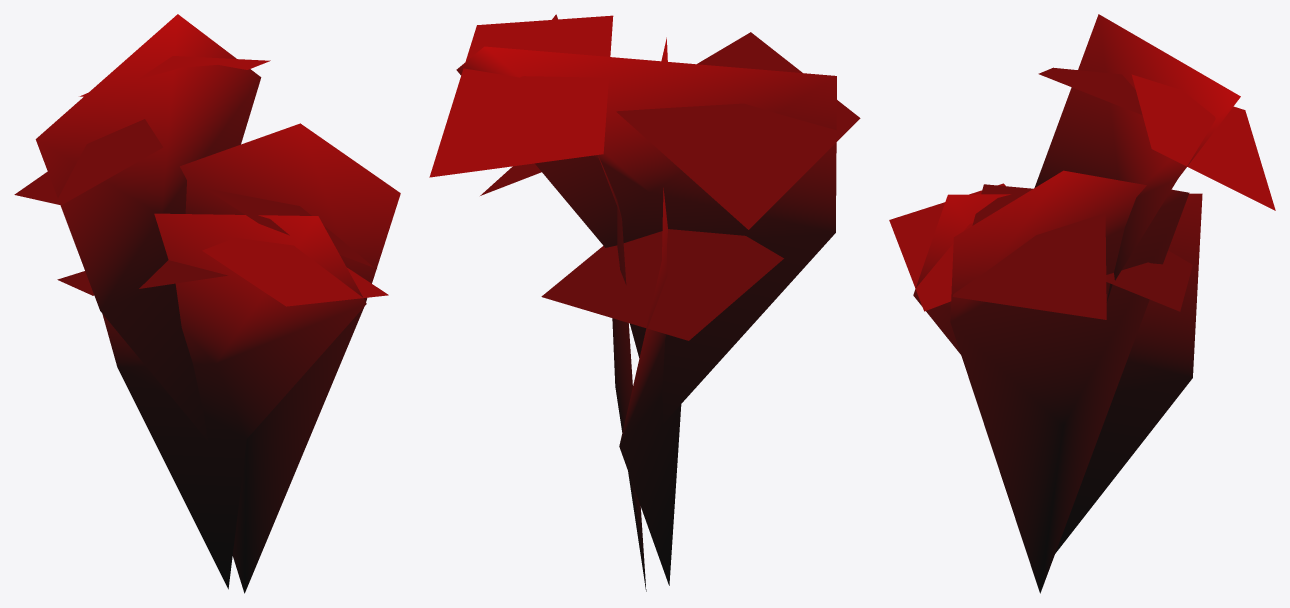
The model's file is Carot1.fbx.
3 renders of one model, left to right at view 1: azimuth 30°, elevation 25°; view 2: azimuth 150°, elevation 25°; view 3: azimuth 270°, elevation 25°, orthographic. The views are drawn at different scales.
Visible parts, largest first — view 1: Carot1; view 2: Carot1; view 3: Carot1.
Boxes of the visible parts, x1,y1,x2,y2 form: Carot1: (14, 14, 400, 593); Carot1: (429, 14, 860, 591); Carot1: (889, 14, 1275, 593).
Bounding box in the file's own units: 27.24 × 44.24 × 30.22.
